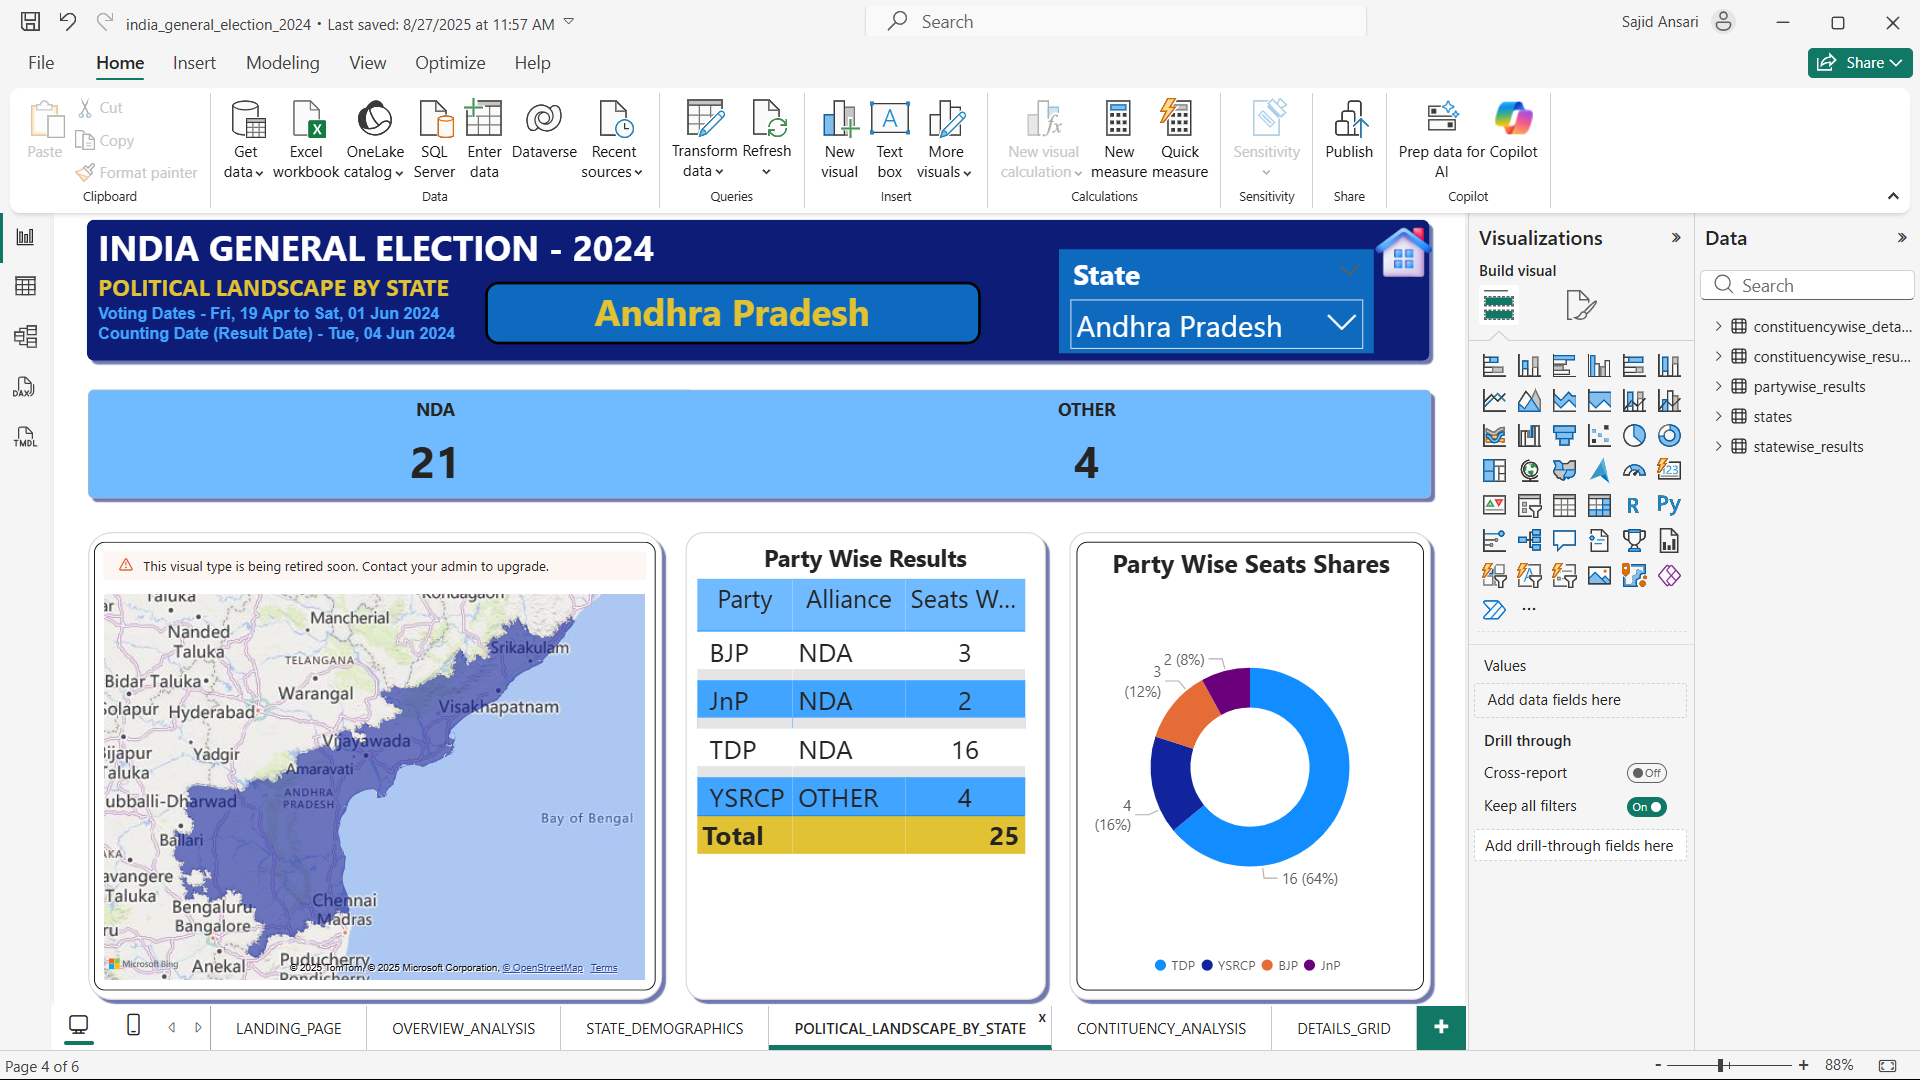

Layout of this report page (visuals, bound fields, positions):
{"tool":"powerbi","page":{"name":"POLITICAL_LANDSCAPE_BY_STATE","canvas":[1280,720],"ordinal":3},"visuals":[{"type":"shape","box":[24.1,0,1230.3,140.1],"z":0},{"type":"shape","box":[24.7,154.1,1230.6,110.6],"z":1000},{"type":"textbox","box":[35.2,4.5,583,136.1],"z":2000},{"type":"shape","box":[24.7,283.5,532.9,436.5],"z":3000},{"type":"shape","box":[567.1,283.5,338.8,436.5],"z":4000},{"type":"shape","box":[915.3,283.5,340,436.5],"z":5000},{"type":"filledMap","fields":{"Category":["states.State"],"Series":["states.State"]},"box":[36.5,298.8,509.4,407.1],"z":6000},{"type":"cardVisual","fields":{"Data":["CountNonNull(constituencywise_results.Constituency Name)"],"Rows":["constituencywise_results.Alliance"]},"box":[25.9,161.2,1230.6,96.5],"z":7000},{"type":"slicer","fields":{"Values":["states.State"]},"box":[911.8,32.9,285.9,94.1],"z":8000},{"type":"tableEx","title":"Party Wise Results","fields":{"Values":["constituencywise_results.Party Short Name","constituencywise_results.Alliance","CountNonNull(constituencywise_results.Constituency Name)"]},"box":[577.6,298.8,317.6,407.1],"z":9000},{"type":"donutChart","title":"Party Wise Seats Shares","fields":{"Y":["CountNonNull(constituencywise_results.Constituency Name)"],"Category":["constituencywise_results.Party Short Name"]},"box":[928.2,298.8,315.3,407.1],"z":10000},{"type":"card","fields":{"Values":["Min(states.State)"]},"box":[391.8,62.4,449.4,56.5],"z":11000},{"type":"image","box":[1194.1,4.7,61.2,62.4],"z":12000}]}

Visuals, with their boxes on the page's 1280x720 design canvas (x1, y1, x2, y2). These are canvas units, not pixel positions in the 1920x1080 screenshot, which may show the page scaled, cropped or inside an application window:
shape: (x1=24, y1=0, x2=1254, y2=140)
shape: (x1=25, y1=154, x2=1255, y2=265)
textbox: (x1=35, y1=4, x2=618, y2=141)
shape: (x1=25, y1=284, x2=558, y2=720)
shape: (x1=567, y1=284, x2=906, y2=720)
shape: (x1=915, y1=284, x2=1255, y2=720)
filledMap - states.State x states.State: (x1=36, y1=299, x2=546, y2=706)
cardVisual - CountNonNull(constituencywise_results.Constituency Name) x constituencywise_results.Alliance: (x1=26, y1=161, x2=1256, y2=258)
slicer - states.State: (x1=912, y1=33, x2=1198, y2=127)
"Party Wise Results" tableEx: (x1=578, y1=299, x2=895, y2=706)
"Party Wise Seats Shares" donutChart: (x1=928, y1=299, x2=1244, y2=706)
card - Min(states.State): (x1=392, y1=62, x2=841, y2=119)
image: (x1=1194, y1=5, x2=1255, y2=67)
